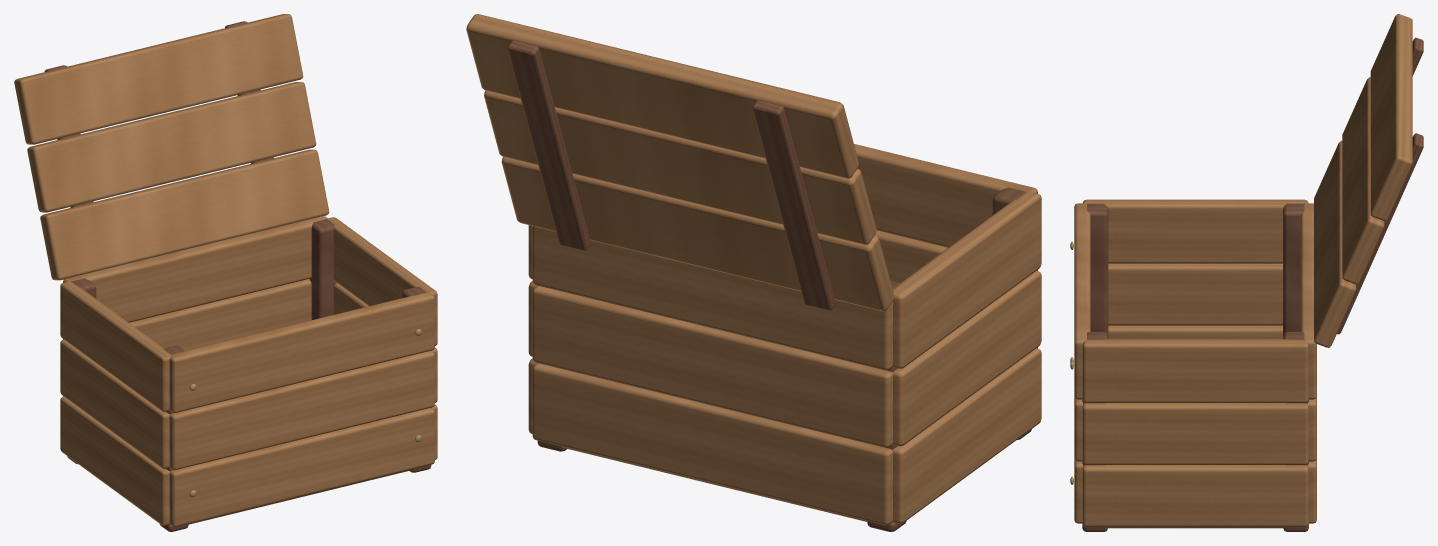
The model's file is 17-kiste-offen.glb.
The picture shows the model from 3 angles, left to right: view 1: azimuth 30°, elevation 25°; view 2: azimuth 150°, elevation 25°; view 3: azimuth 270°, elevation 25°; orthographic projection. The views are drawn at different scales.
Parts seen in each view (by area): view 1: Lid plank 0, Lid plank 1, Lid plank 2, Long side plank.004, Long side plank.002, Long side plank, Long side plank.005, Short side plank.004, Long side plank.003, Short side plank.002, Short side plank, Short side plank.005 (+2 smaller); view 2: Long side plank.001, Long side plank.003, Lid plank 0, Long side plank.005, Lid plank 1, Lid plank 2, Short side plank.004, Short side plank, Short side plank.002, Long side plank.004, Lid crossbar.001, Lid crossbar (+1 smaller); view 3: Short side plank.005, Short side plank.001, Short side plank.003, Short side plank.004, Short side plank.002, Lid plank 0, Lid plank 1, Lid plank 2, Long side plank.004, Short side plank, Corner upright, Long side plank.005 (+6 smaller).
Boxes of the visible parts, x1=… form: Lid plank 0: x1=14, y1=14, x2=303, y2=144; Lid plank 1: x1=27, y1=82, x2=316, y2=212; Lid plank 2: x1=40, y1=149, x2=329, y2=280; Long side plank.004: x1=169, y1=292, x2=434, y2=412; Long side plank.002: x1=169, y1=351, x2=434, y2=469; Long side plank: x1=169, y1=408, x2=434, y2=526; Long side plank.005: x1=63, y1=216, x2=327, y2=322; Short side plank.004: x1=60, y1=281, x2=170, y2=411; Long side plank.003: x1=63, y1=279, x2=311, y2=350; Short side plank.002: x1=60, y1=340, x2=169, y2=468; Short side plank: x1=60, y1=397, x2=169, y2=525; Short side plank.005: x1=327, y1=217, x2=437, y2=345; Long side plank.001: x1=532, y1=363, x2=892, y2=525; Long side plank.003: x1=532, y1=286, x2=892, y2=447; Lid plank 0: x1=466, y1=14, x2=858, y2=178; Long side plank.005: x1=532, y1=226, x2=892, y2=370; Lid plank 1: x1=484, y1=90, x2=876, y2=244; Lid plank 2: x1=501, y1=157, x2=894, y2=311; Short side plank.004: x1=892, y1=191, x2=1041, y2=368; Short side plank: x1=892, y1=348, x2=1041, y2=523; Short side plank.002: x1=892, y1=271, x2=1041, y2=446; Long side plank.004: x1=854, y1=144, x2=1037, y2=247; Lid crossbar.001: x1=507, y1=40, x2=590, y2=250; Lid crossbar: x1=752, y1=100, x2=835, y2=310; Short side plank.005: x1=1082, y1=339, x2=1308, y2=402; Short side plank.001: x1=1082, y1=465, x2=1308, y2=526; Short side plank.003: x1=1082, y1=403, x2=1308, y2=464; Short side plank.004: x1=1083, y1=199, x2=1308, y2=263; Short side plank.002: x1=1108, y1=263, x2=1282, y2=325; Lid plank 0: x1=1370, y1=14, x2=1412, y2=220; Lid plank 1: x1=1342, y1=77, x2=1384, y2=284; Lid plank 2: x1=1314, y1=140, x2=1356, y2=347; Long side plank.004: x1=1074, y1=203, x2=1090, y2=399; Short side plank: x1=1108, y1=325, x2=1282, y2=339; Corner upright: x1=1087, y1=203, x2=1108, y2=335; Long side plank.005: x1=1300, y1=203, x2=1316, y2=399.
Bounding box in the file's own units: 0.735 × 0.8867 × 0.7499.
3 materials, 2 textured.
